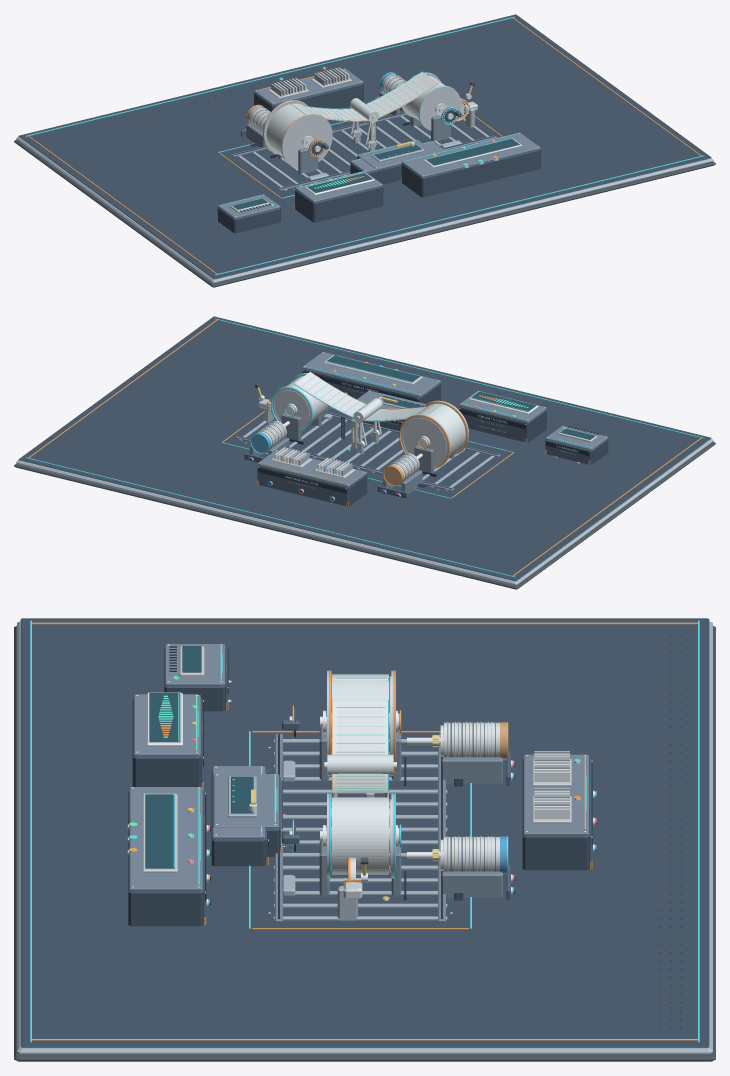
Rendered from Level47_Complete_ArtKit_Showcase.fbx.
3 renders of one model, top to bottom at view 1: azimuth 30°, elevation 25°; view 2: azimuth 150°, elevation 25°; view 3: azimuth 270°, elevation 25°, orthographic. The views are drawn at different scales.
Parts seen in each view (by area): view 1: Model::ART_ONLY_L47_ShowcaseBench__L47_BENCH_CarbonTop, Model::ART_ONLY_L47_ShowcaseBench__L47_BENCH_ForgedMetal, Model::ART_ONLY_L47_ShowcaseBench__L47_BENCH_CNC_Border, Model::10_L47_TensionController__L47_CONTROLLER_Chassis, Model::12_L47_TensionMonitor__L47_TENSION_MONITOR_Chassis, Model::10_L47_TensionController__L47_CONTROLLER_Top_Lid, Model::04_L47_TakeupSpool__L47_TAKEUP_SPOOL_FlangeBillet_+1., Model::05_L47_TransportWeb__L47_WEB_CentralCarbonTint, Model::09_L47_DualMotorDriver__L47_DRIVER_Chassis, Model::04_L47_TakeupSpool__L47_TAKEUP_SPOOL_WoundCore, Model::03_L47_FeedSpool__L47_FEED_SPOOL_FlangeBillet_+1.4, Model::00_L47_5VSupply__L47_5V_SUPPLY_Chassis (+11 smaller); view 2: Model::ART_ONLY_L47_ShowcaseBench__L47_BENCH_CarbonTop, Model::ART_ONLY_L47_ShowcaseBench__L47_BENCH_ForgedMetal, Model::ART_ONLY_L47_ShowcaseBench__L47_BENCH_CNC_Border, Model::10_L47_TensionController__L47_CONTROLLER_Top_Lid, Model::04_L47_TakeupSpool__L47_TAKEUP_SPOOL_FlangeBillet_-1., Model::09_L47_DualMotorDriver__L47_DRIVER_Front_Console_Plat, Model::05_L47_TransportWeb__L47_WEB_CentralCarbonTint, Model::12_L47_TensionMonitor__L47_TENSION_MONITOR_Front_Cons, Model::04_L47_TakeupSpool__L47_TAKEUP_SPOOL_WoundCore, Model::09_L47_DualMotorDriver__L47_DRIVER_Top_Lid, Model::03_L47_FeedSpool__L47_FEED_SPOOL_FlangeBillet_-1.4, Model::ART_ONLY_L47_ShowcaseBench__L47_BENCH_FrontNeon_-11.4 (+12 smaller); view 3: Model::ART_ONLY_L47_ShowcaseBench__L47_BENCH_CarbonTop, Model::ART_ONLY_L47_ShowcaseBench__L47_BENCH_ForgedMetal, Model::ART_ONLY_L47_ShowcaseBench__L47_BENCH_CNC_Border, Model::10_L47_TensionController__L47_CONTROLLER_Top_Lid, Model::03_L47_FeedSpool__L47_FEED_SPOOL_WoundCore, Model::05_L47_TransportWeb__L47_WEB_CentralCarbonTint, Model::10_L47_TensionController__L47_CONTROLLER_Chassis, Model::09_L47_DualMotorDriver__L47_DRIVER_Top_Lid, Model::09_L47_DualMotorDriver__L47_DRIVER_Chassis, Model::07_L47_TensionSensor__L47_TENSION_SENSOR_Top_Lid, Model::12_L47_TensionMonitor__L47_TENSION_MONITOR_Chassis, Model::12_L47_TensionMonitor__L47_TENSION_MONITOR_Top_Lid (+23 smaller).
Part boxes in pixels (x1,y1,x2,y2): Model::ART_ONLY_L47_ShowcaseBench__L47_BENCH_CarbonTop: (18,14,711,279); Model::ART_ONLY_L47_ShowcaseBench__L47_BENCH_ForgedMetal: (16,137,713,283); Model::ART_ONLY_L47_ShowcaseBench__L47_BENCH_CNC_Border: (14,139,715,287); Model::10_L47_TensionController__L47_CONTROLLER_Chassis: (401,149,540,197); Model::12_L47_TensionMonitor__L47_TENSION_MONITOR_Chassis: (295,186,383,222); Model::10_L47_TensionController__L47_CONTROLLER_Top_Lid: (402,132,540,177); Model::04_L47_TakeupSpool__L47_TAKEUP_SPOOL_FlangeBillet_+1.: (281,114,332,167); Model::05_L47_TransportWeb__L47_WEB_CentralCarbonTint: (293,73,436,119); Model::09_L47_DualMotorDriver__L47_DRIVER_Chassis: (254,83,363,111); Model::04_L47_TakeupSpool__L47_TAKEUP_SPOOL_WoundCore: (266,103,314,156); Model::03_L47_FeedSpool__L47_FEED_SPOOL_FlangeBillet_+1.4: (419,86,461,130); Model::00_L47_5VSupply__L47_5V_SUPPLY_Chassis: (218,207,280,233); Model::ART_ONLY_L47_ShowcaseBench__L47_BENCH_CarbonTop: (18,316,711,581); Model::ART_ONLY_L47_ShowcaseBench__L47_BENCH_ForgedMetal: (16,439,713,585); Model::ART_ONLY_L47_ShowcaseBench__L47_BENCH_CNC_Border: (14,441,715,589); Model::10_L47_TensionController__L47_CONTROLLER_Top_Lid: (302,352,441,396); Model::04_L47_TakeupSpool__L47_TAKEUP_SPOOL_FlangeBillet_-1.: (401,414,450,466); Model::09_L47_DualMotorDriver__L47_DRIVER_Front_Console_Plat: (257,465,348,506); Model::05_L47_TransportWeb__L47_WEB_CentralCarbonTint: (296,373,436,419); Model::12_L47_TensionMonitor__L47_TENSION_MONITOR_Front_Cons: (459,406,527,442); Model::04_L47_TakeupSpool__L47_TAKEUP_SPOOL_WoundCore: (417,403,465,457); Model::09_L47_DualMotorDriver__L47_DRIVER_Top_Lid: (257,450,367,486); Model::03_L47_FeedSpool__L47_FEED_SPOOL_FlangeBillet_-1.4: (272,386,313,429); Model::ART_ONLY_L47_ShowcaseBench__L47_BENCH_FrontNeon_-11.4: (25,457,514,577); Model::ART_ONLY_L47_ShowcaseBench__L47_BENCH_CarbonTop: (20,618,709,1047); Model::ART_ONLY_L47_ShowcaseBench__L47_BENCH_ForgedMetal: (17,621,712,1054); Model::ART_ONLY_L47_ShowcaseBench__L47_BENCH_CNC_Border: (14,626,715,1061); Model::10_L47_TensionController__L47_CONTROLLER_Top_Lid: (129,787,202,890); Model::03_L47_FeedSpool__L47_FEED_SPOOL_WoundCore: (332,797,388,874); Model::05_L47_TransportWeb__L47_WEB_CentralCarbonTint: (338,678,382,791); Model::10_L47_TensionController__L47_CONTROLLER_Chassis: (128,791,202,926); Model::09_L47_DualMotorDriver__L47_DRIVER_Top_Lid: (523,754,588,834); Model::09_L47_DualMotorDriver__L47_DRIVER_Chassis: (522,759,589,870); Model::07_L47_TensionSensor__L47_TENSION_SENSOR_Top_Lid: (213,774,279,827); Model::12_L47_TensionMonitor__L47_TENSION_MONITOR_Chassis: (132,699,200,786); Model::12_L47_TensionMonitor__L47_TENSION_MONITOR_Top_Lid: (133,694,200,755).
Bounding box in the file's own units: 35.2 × 4.25 × 24.1.
